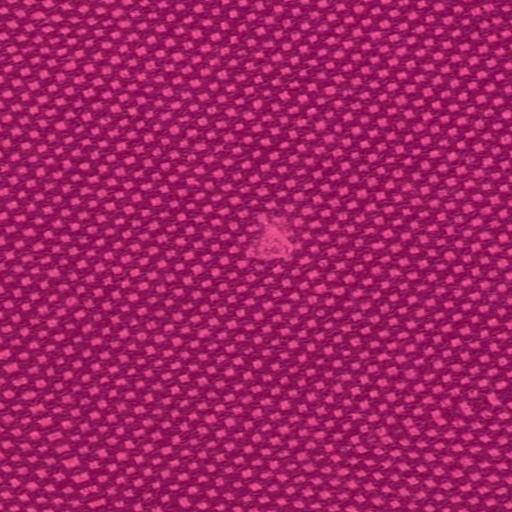knot: (247, 205, 301, 264)
